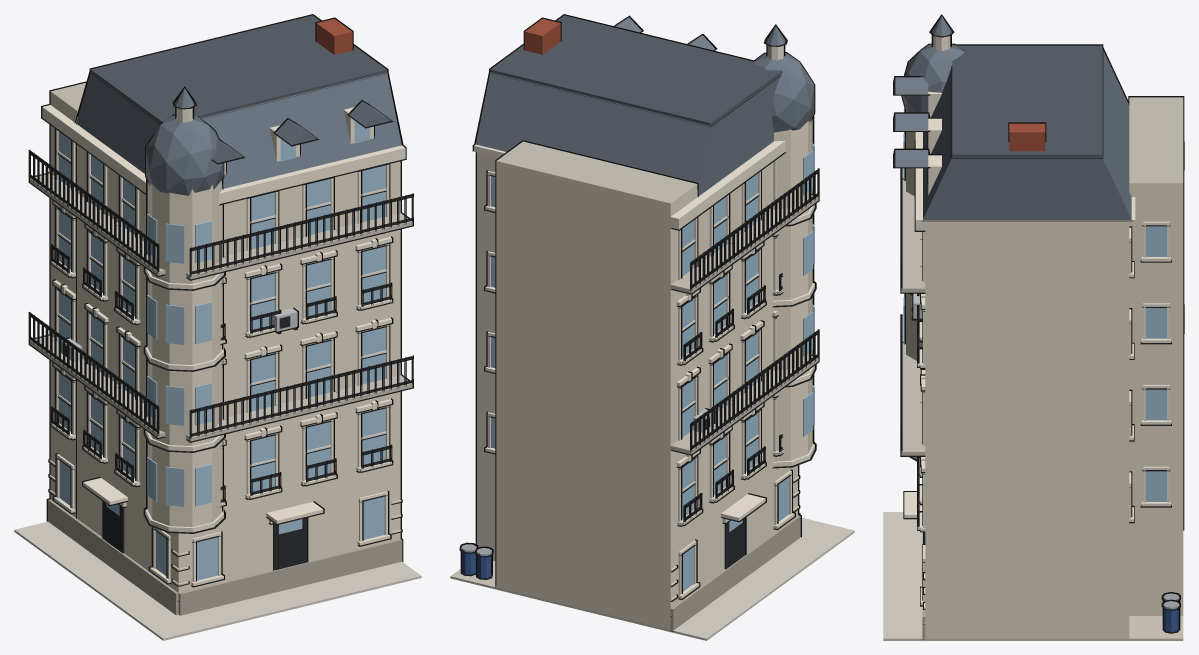
The model's file is Blok_kose_5k_1.fbx.
The picture shows the model from 3 angles, left to right: view 1: azimuth 30°, elevation 25°; view 2: azimuth 150°, elevation 25°; view 3: azimuth 270°, elevation 25°; orthographic projection.
Parts seen in each view (by area): view 1: Blok_kose_5k_1; view 2: Blok_kose_5k_1; view 3: Blok_kose_5k_1.
Part boxes in pixels (x1,y1,x2,y2): Blok_kose_5k_1: (14,14,421,640); Blok_kose_5k_1: (450,14,854,640); Blok_kose_5k_1: (883,14,1184,640).
Size of the model in its own units: 10.05 by 19.29 by 10.05.
